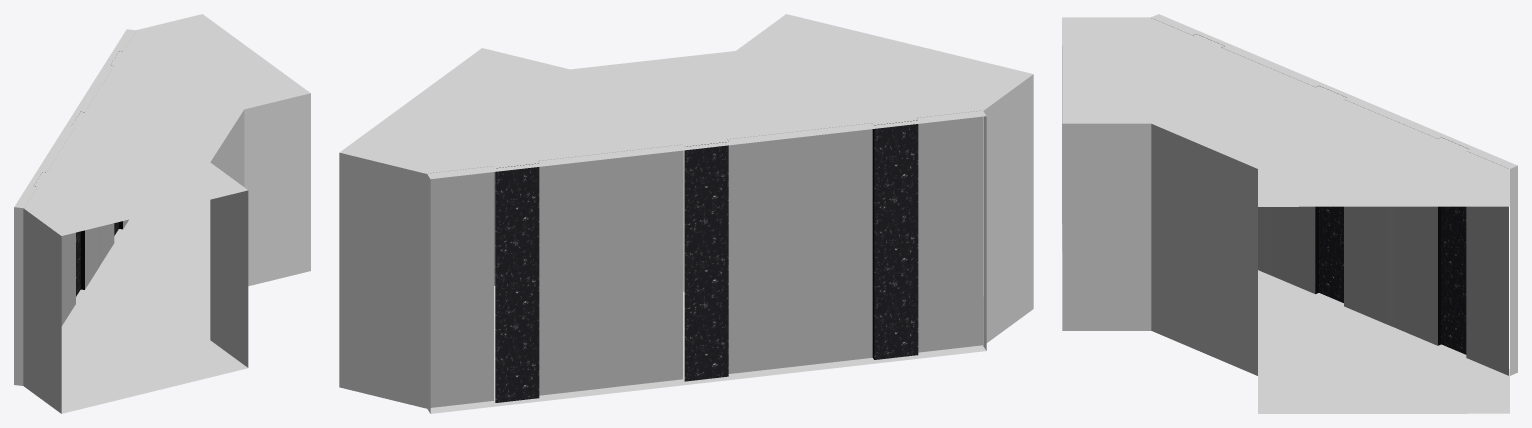
The model's file is room2c.gltf.
The picture shows the model from 3 angles, left to right: view 1: azimuth 30°, elevation 25°; view 2: azimuth 150°, elevation 25°; view 3: azimuth 270°, elevation 25°; orthographic projection. The views are drawn at different scales.
Parts seen in each view (by area): view 1: Cube, site19_wall_cb_modern.002; view 2: site19_wall_cb_modern.002, Cube; view 3: Cube, site19_wall_cb_modern.002.
Part boxes in pixels (x1=…): Cube: x1=14, y1=14, x2=310, y2=413; site19_wall_cb_modern.002: x1=35, y1=51, x2=128, y2=325; site19_wall_cb_modern.002: x1=428, y1=110, x2=982, y2=407; Cube: x1=339, y1=14, x2=1033, y2=413; Cube: x1=1062, y1=14, x2=1517, y2=413; site19_wall_cb_modern.002: x1=1154, y1=19, x2=1508, y2=375.
Size of the model in its own units: 14.49 by 7.27 by 14.48.
Materials: 12 (3 with a texture image).
